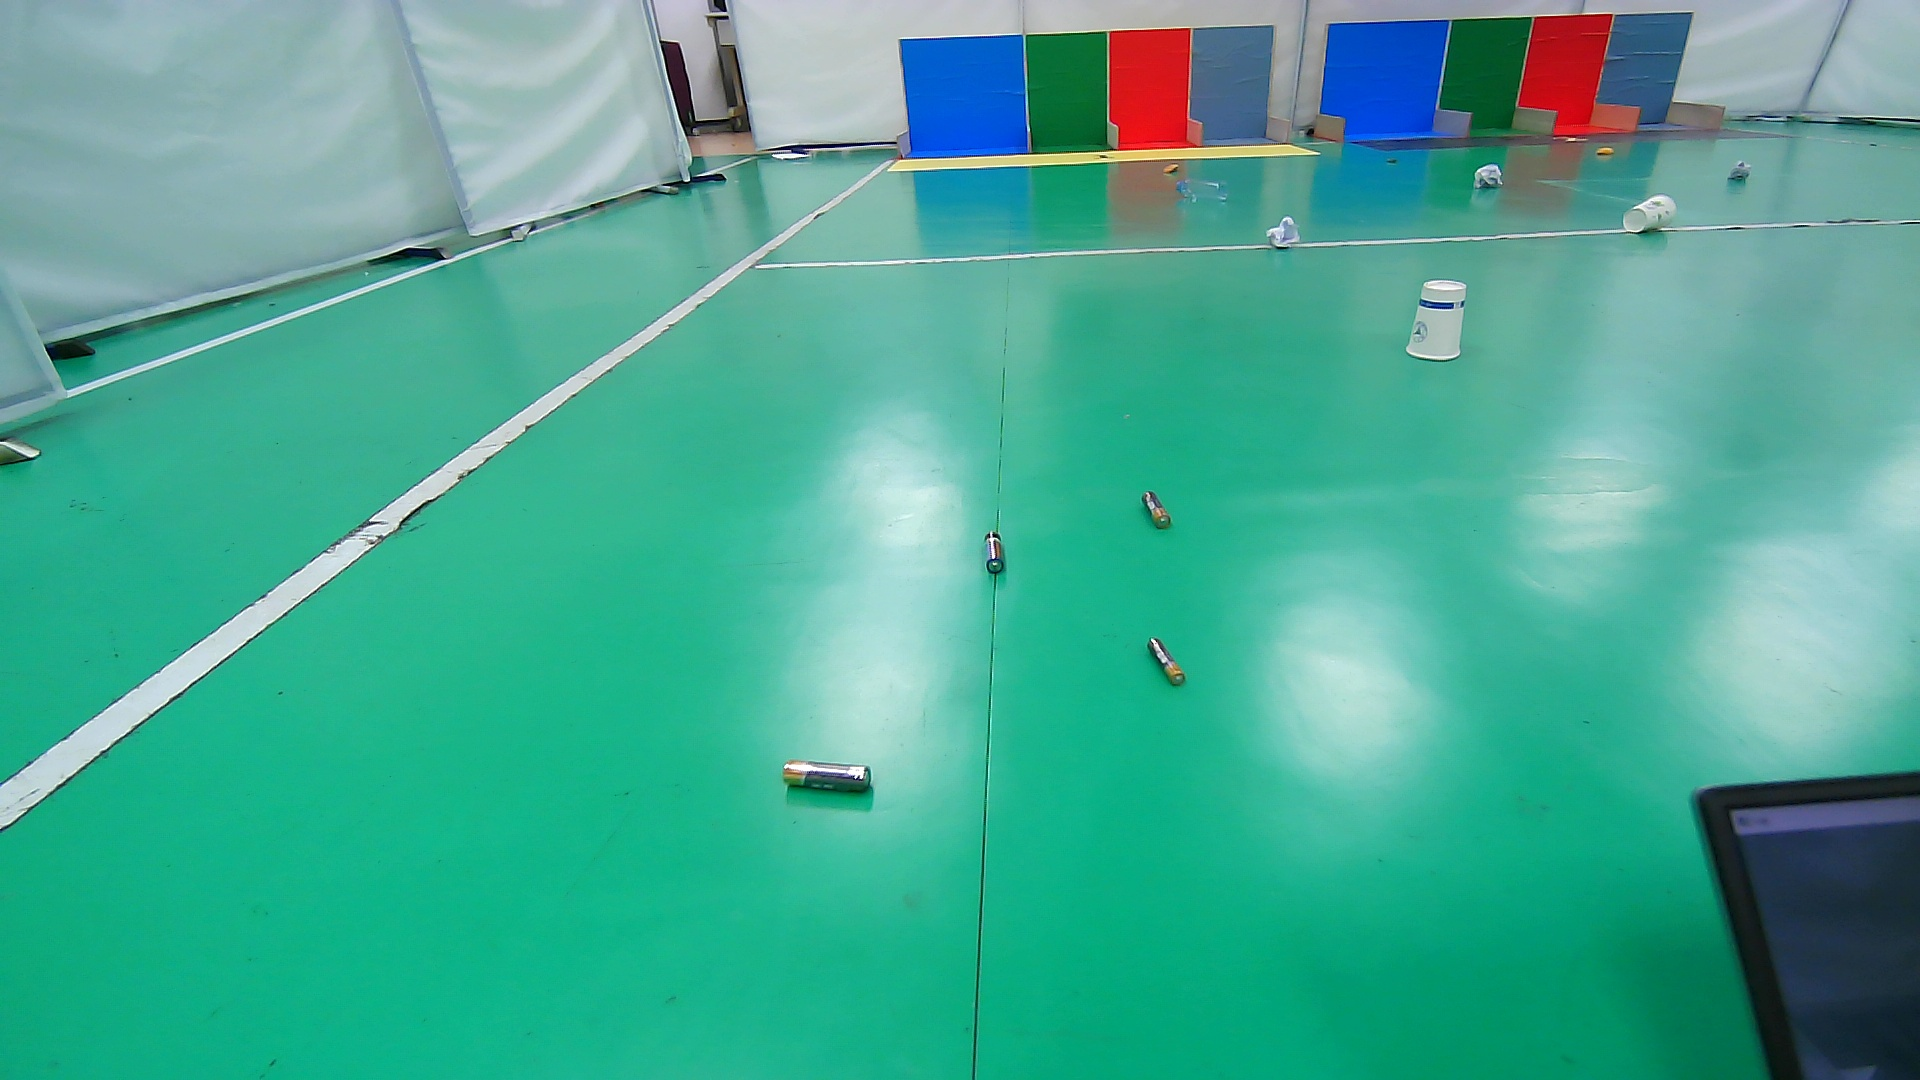battery: (752, 729, 899, 828), (1124, 607, 1207, 720), (957, 510, 1030, 607), (1116, 471, 1195, 556), (1375, 152, 1407, 170)
bottle: (1172, 175, 1233, 204)
orangepeel: (1589, 142, 1619, 161), (1156, 160, 1185, 175)
papercup: (1402, 276, 1469, 363), (1621, 191, 1677, 236)
spitball: (1261, 214, 1304, 251), (1469, 160, 1506, 193), (1724, 157, 1755, 187)
